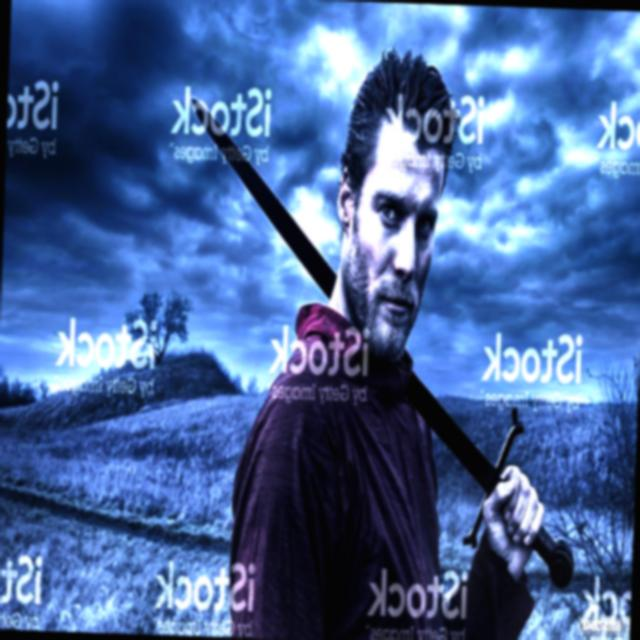long sword: (168, 93, 594, 590)
